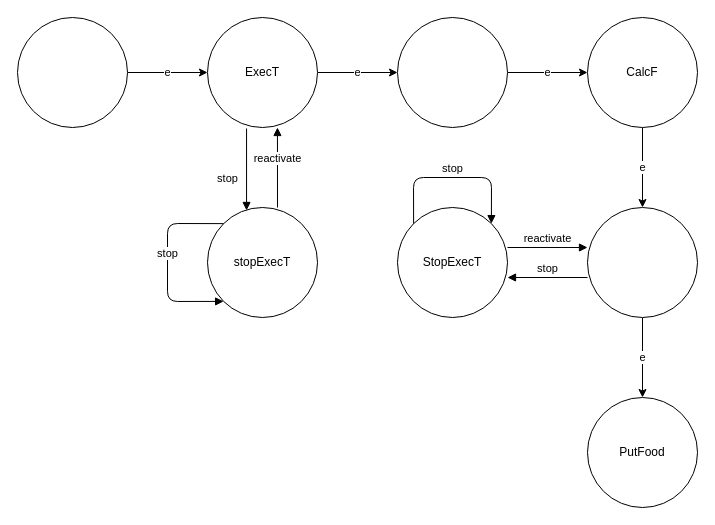
The diagram is 715 pixels wide and 525 high, and some of its shapes have lost their labels. Here are the shapes that lost their labels. From the top down, the centre of each, then its label:
At (x=72, y=72): "CalcT".
At (x=452, y=72): "TakeFood".
At (x=642, y=262): "ExecF".
